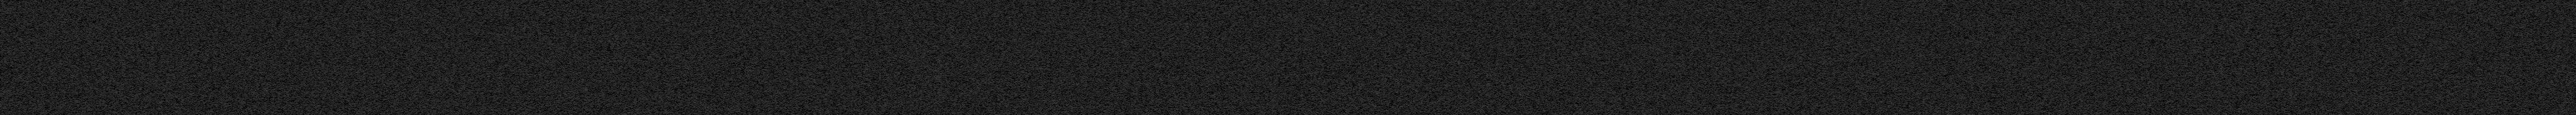wv_am: (250, 0, 255, 115), (447, 0, 450, 92), (447, 112, 450, 115), (447, 100, 450, 103), (447, 108, 450, 110), (448, 103, 450, 107), (448, 97, 450, 99), (448, 94, 450, 95)
wv_cw: (767, 0, 772, 115)
wv_lsb: (151, 16, 158, 115)
wv_usb: (1467, 0, 1475, 82), (1467, 87, 1475, 115), (1467, 84, 1470, 87)
